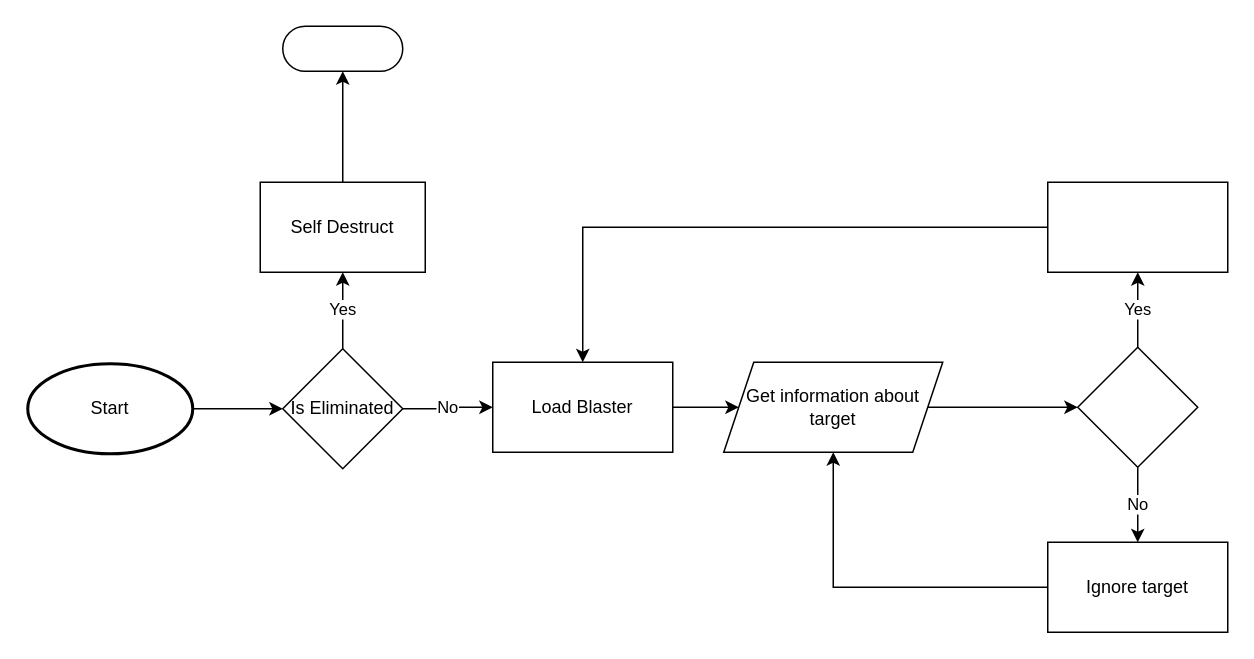
Some shapes in this 1254 by 659 pixel diagram are drawn without their labels. Each missing label, with the centre of its shape:
End: point (342, 48)
Fire Blaster: point (1137, 226)
Is target enemy of Robotia?: point (1137, 406)
